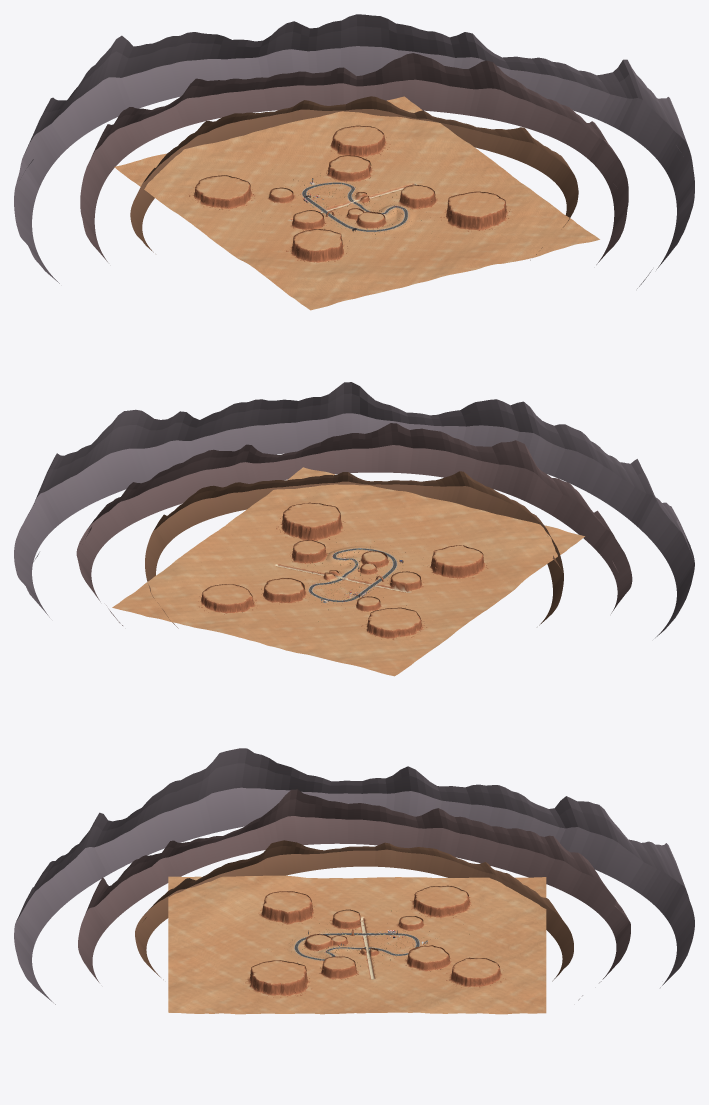
The model's file is env_mesa.glb.
The picture shows the model from 3 angles, top to bottom: view 1: azimuth 30°, elevation 25°; view 2: azimuth 150°, elevation 25°; view 3: azimuth 270°, elevation 25°; orthographic projection. The views are drawn at different scales.
Parts seen in each view (by area): view 1: terrain, mz_horizon_2, mz_horizon_1, mz_horizon_0, road.001; view 2: terrain, mz_horizon_2, mz_horizon_1, mz_horizon_0, road.001; view 3: terrain, mz_horizon_2, mz_horizon_1, mz_horizon_0.
Boxes of the visible parts, bbox=[...] form: terrain: bbox=[114, 96, 599, 310]; mz_horizon_2: bbox=[14, 14, 694, 288]; mz_horizon_1: bbox=[80, 53, 628, 264]; mz_horizon_0: bbox=[130, 96, 578, 260]; road.001: bbox=[302, 182, 407, 231]; terrain: bbox=[112, 467, 584, 676]; mz_horizon_2: bbox=[14, 382, 694, 637]; mz_horizon_1: bbox=[76, 423, 632, 625]; mz_horizon_0: bbox=[145, 471, 563, 628]; road.001: bbox=[309, 548, 396, 601]; terrain: bbox=[168, 875, 546, 1014]; mz_horizon_2: bbox=[14, 748, 694, 1004]; mz_horizon_1: bbox=[78, 789, 630, 1000]; mz_horizon_0: bbox=[135, 840, 573, 981].
Bounding box in the file's own units: 3977 × 510 × 3977.
Materials: 41 (14 with a texture image).
